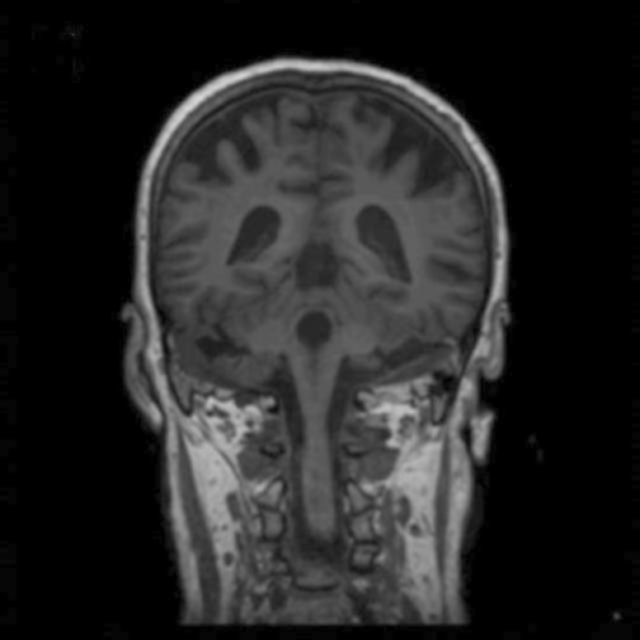glioma tumor: (187, 109, 438, 408)
